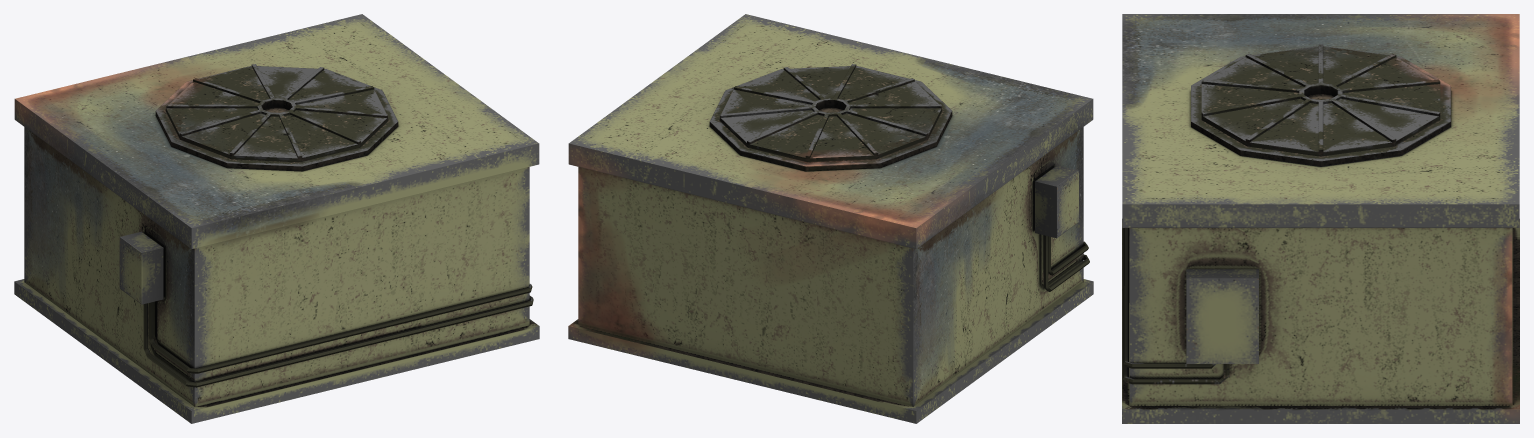
File: Textured Aircon Test_02.fbx
3 views of the same model, side by side, from view 1: azimuth 30°, elevation 25°; view 2: azimuth 150°, elevation 25°; view 3: azimuth 270°, elevation 25° (orthographic). The views are drawn at different scales.
Visible parts, largest first — view 1: pCube7; view 2: pCube7; view 3: pCube7.
Part boxes in pixels (<box>): pCube7: <box>14,14,539,423</box>; pCube7: <box>568,14,1093,423</box>; pCube7: <box>1122,14,1519,423</box>.
Bounding box in the file's own units: 3.89 × 2.07 × 3.17.
